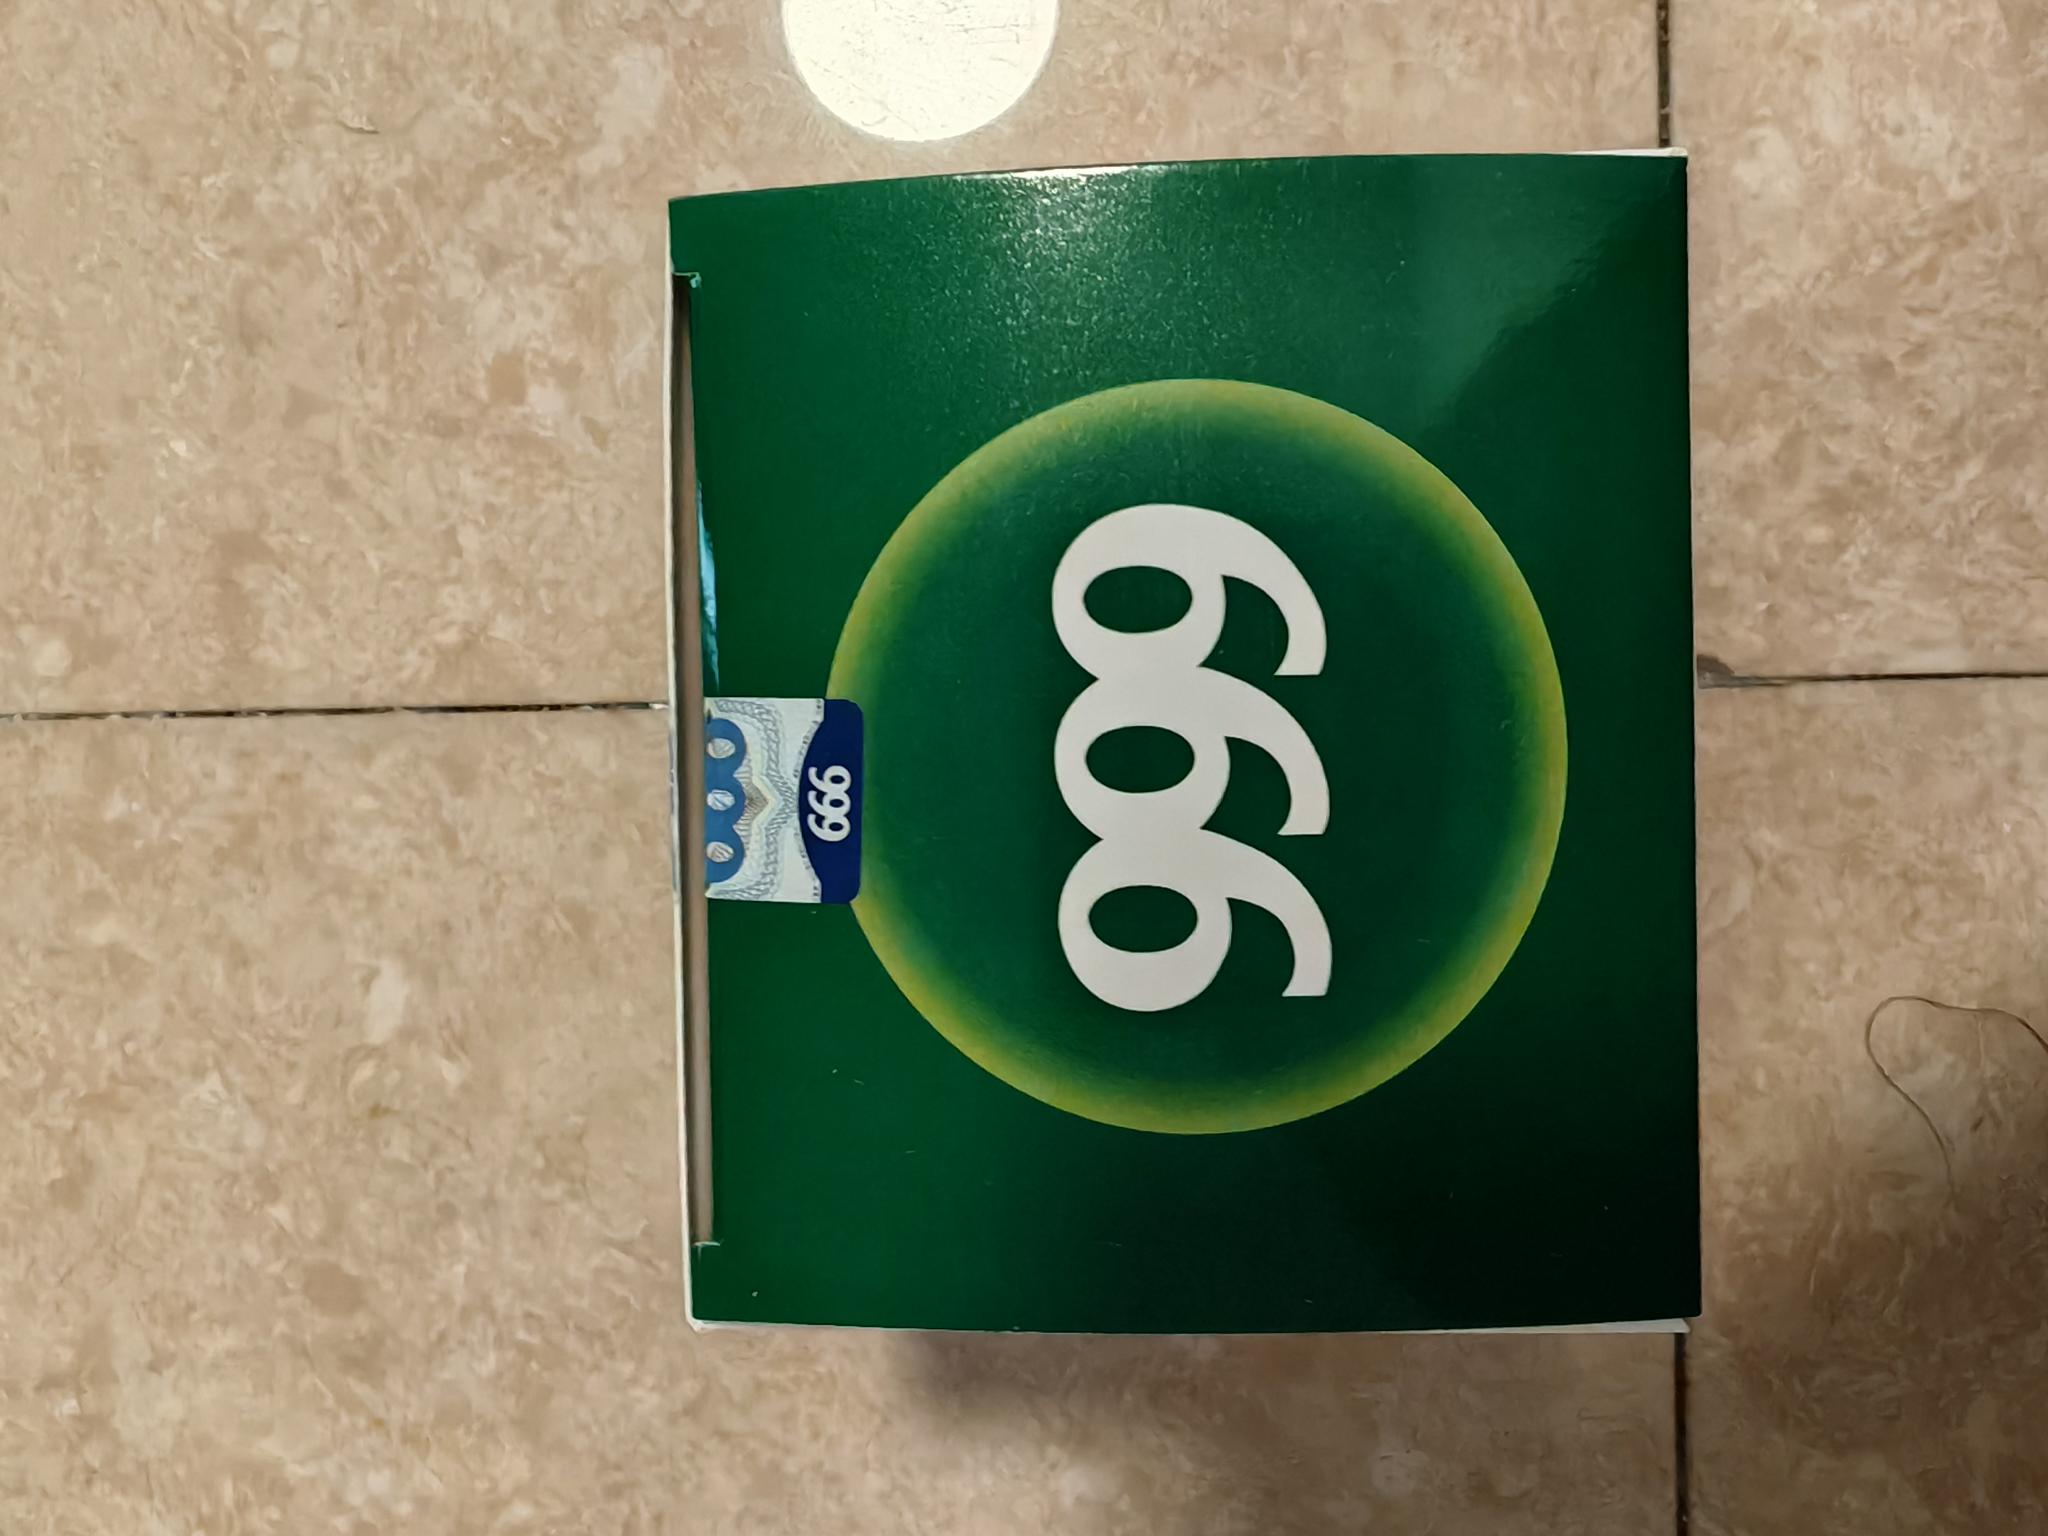Medicine3: (634, 136, 1735, 1362)
